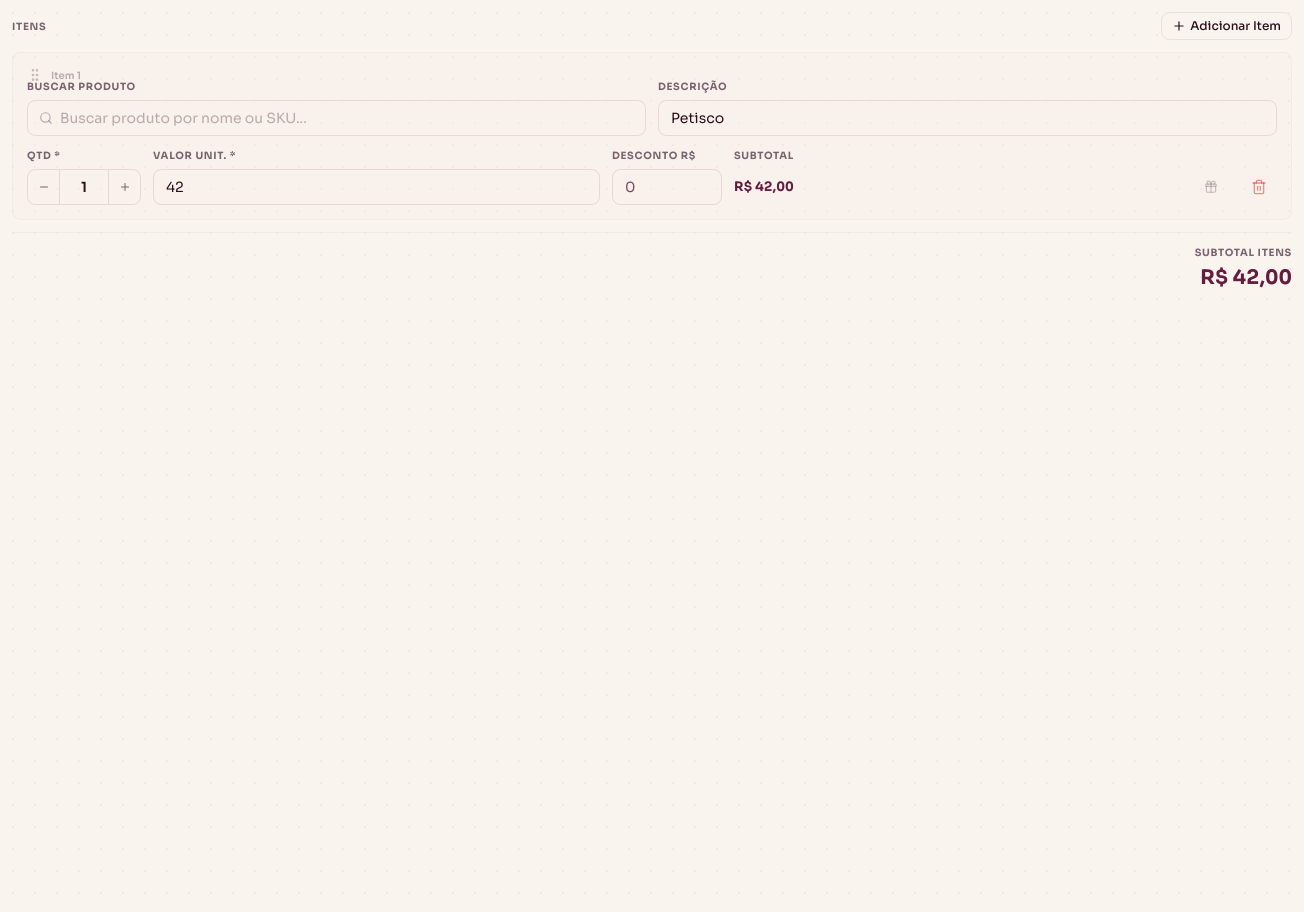
ItensTable — brinde (specs/vendas/spec-v5.md) › desmarcar brinde devolve o preço que o item tinha antes
Click the button titled "brinde" at [1211, 187], box [1193,169,1229,205]
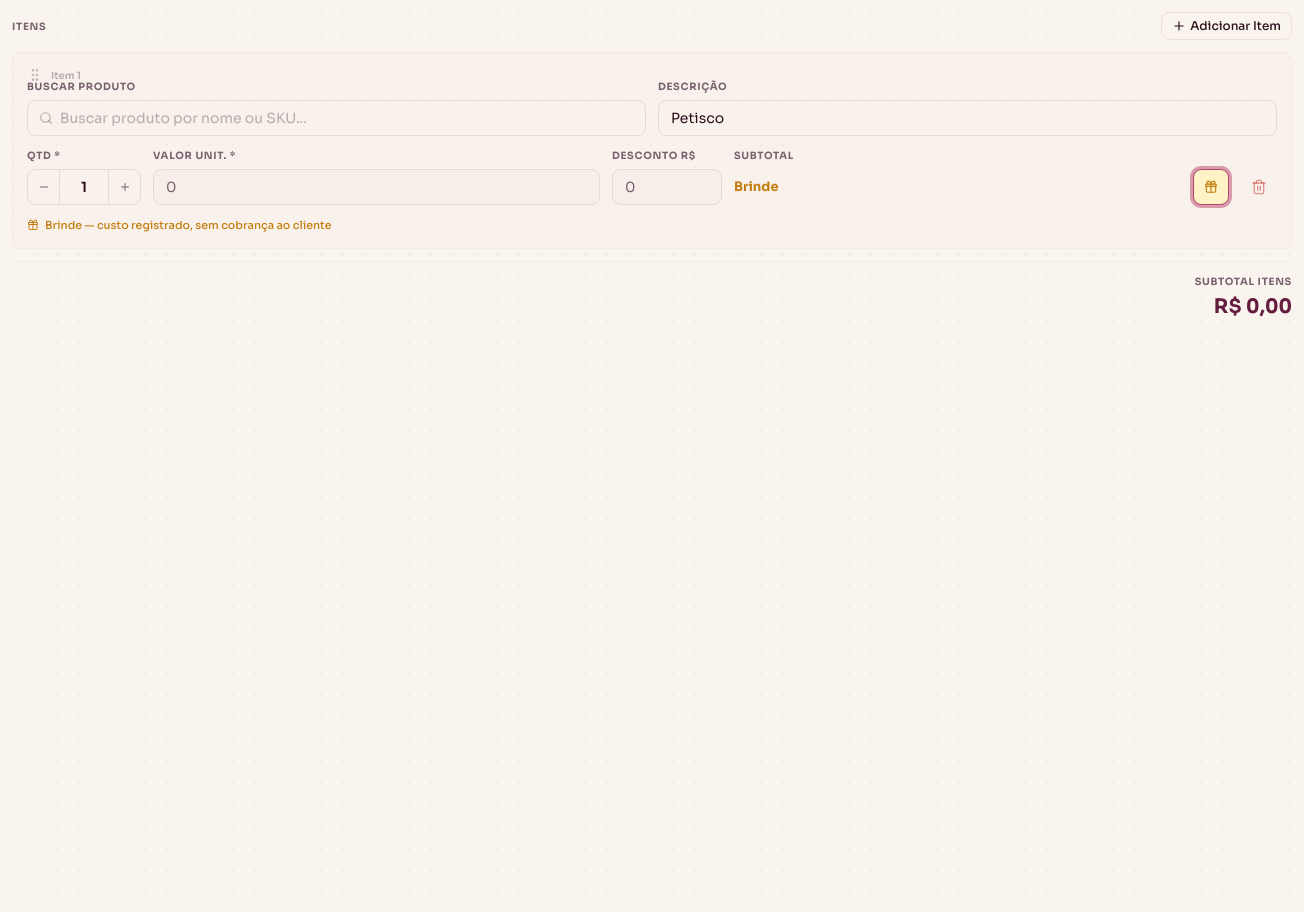
Click the button titled "brinde" at [1211, 187], box [1193,169,1229,205]
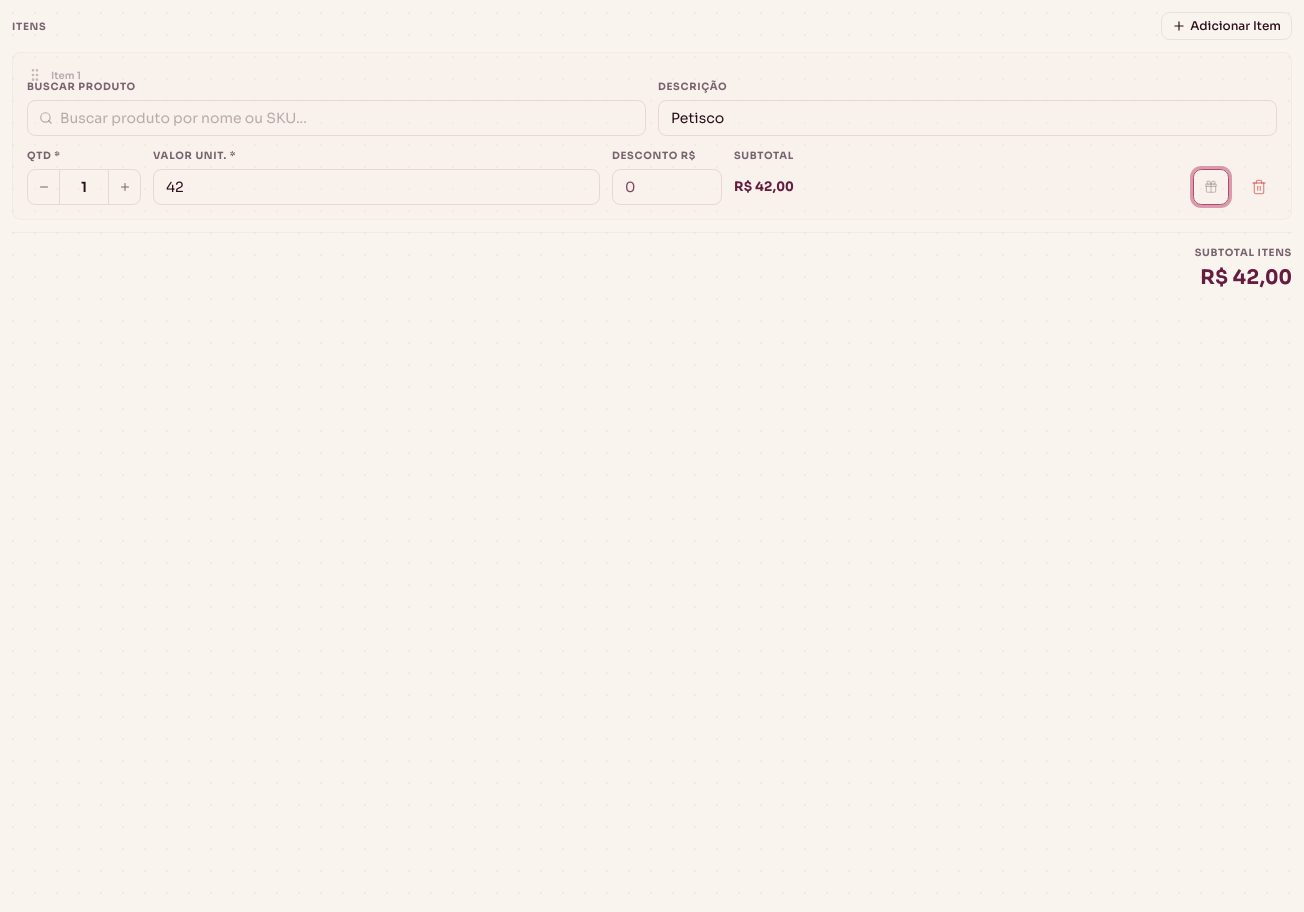
Check: the number field below "Valor Unit. *" holds "42", box [153,169,600,205]
